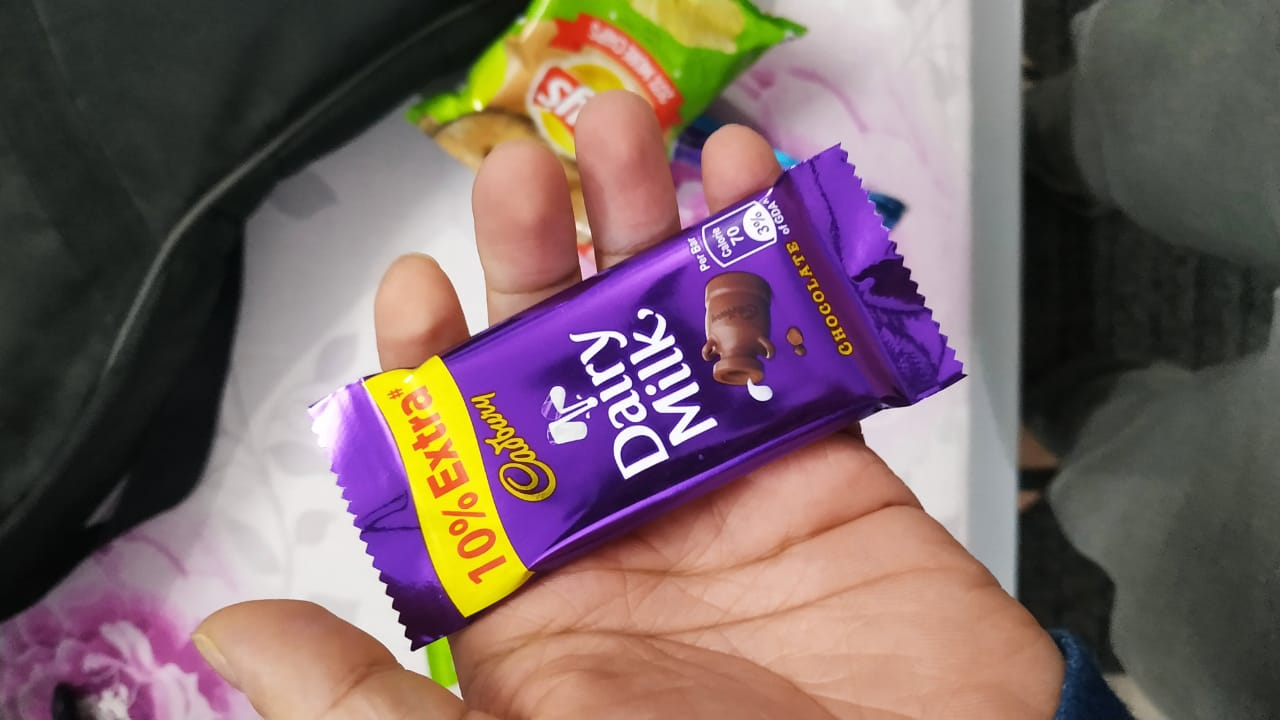dairy milk: (298, 148, 966, 644)
